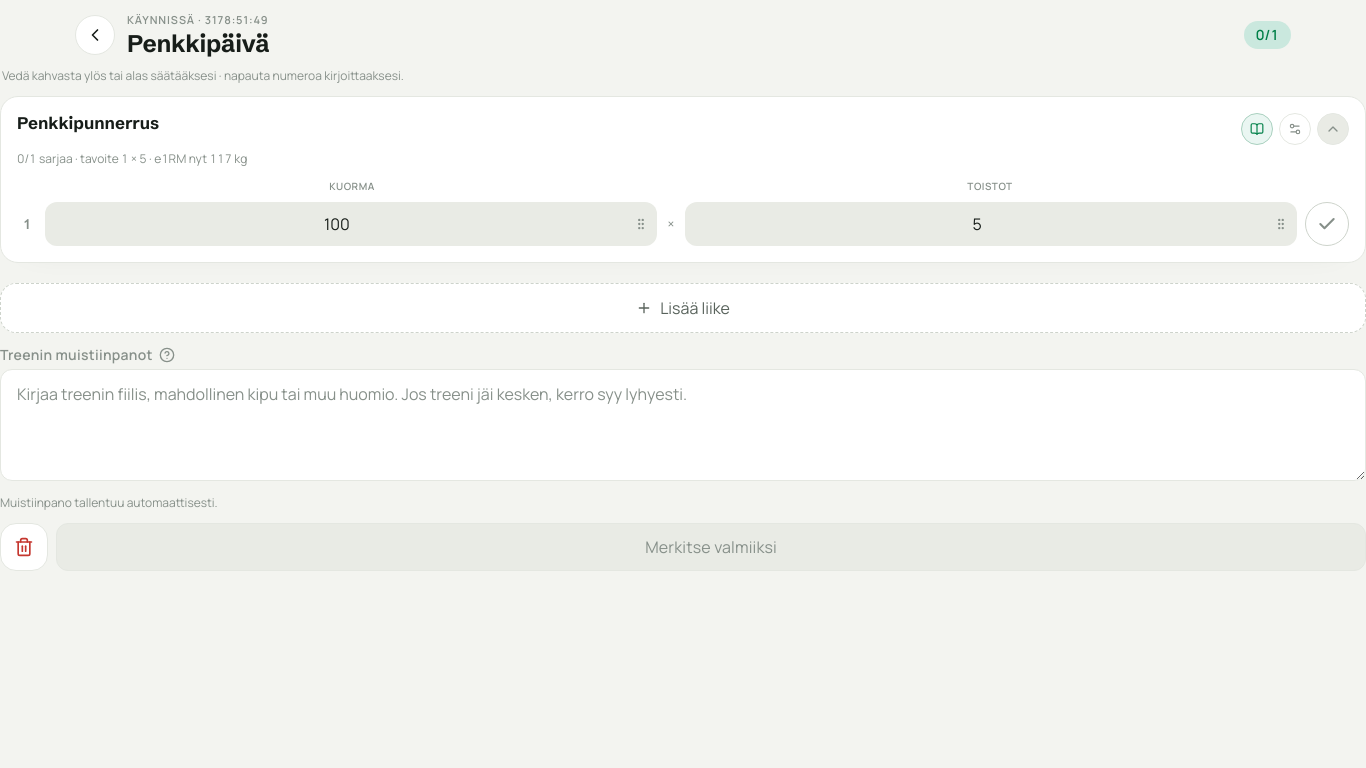
Test: AthleteSessionPanel › opens the coach instruction in a dialog
Click the button named "Penkkipunnerrus ohje".
click(1257, 129)  # box [1241,113,1273,145]
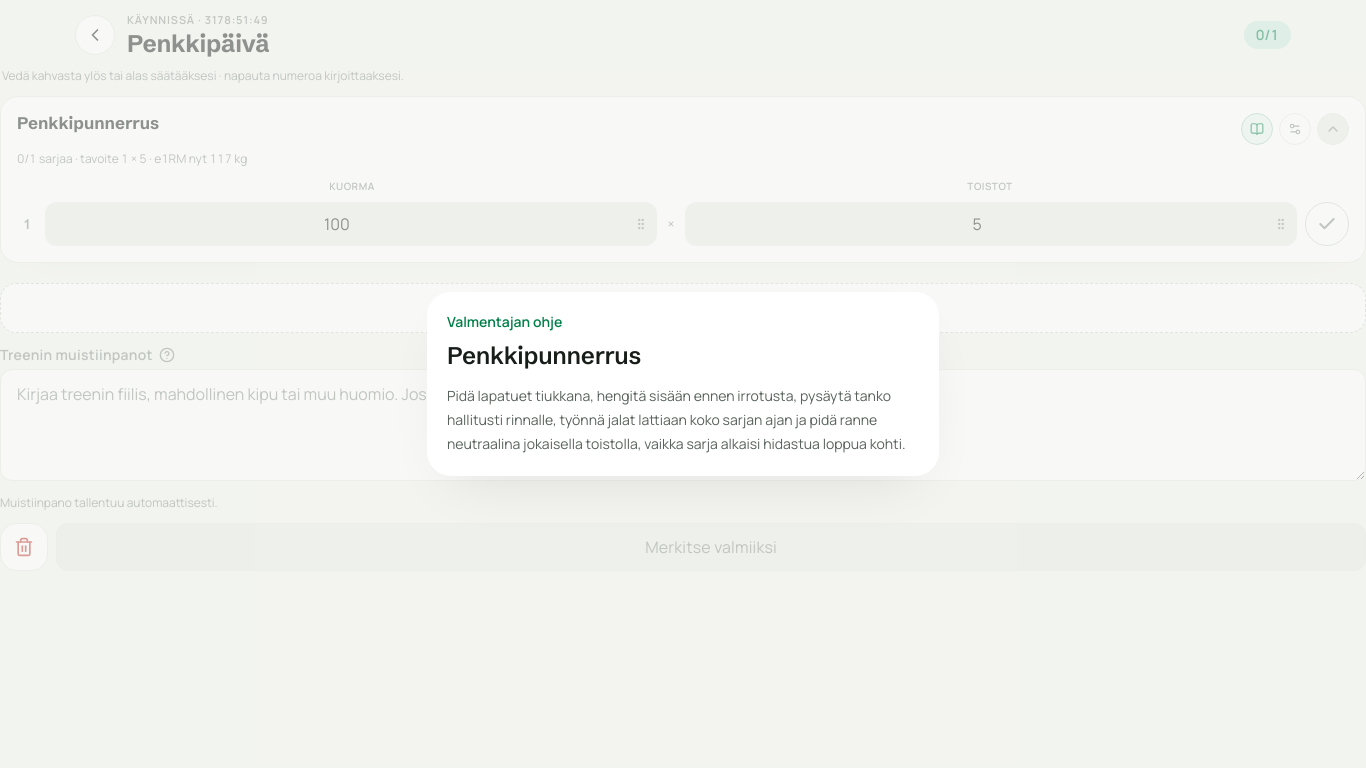
Expected: the dialog is shown, [427,292,939,476]
Expected: the text "Valmentajan ohje" is shown, [447,312,562,331]
Expected: the dialog shows "Pidä lapatuet tiukkana", [447,386,906,453]
